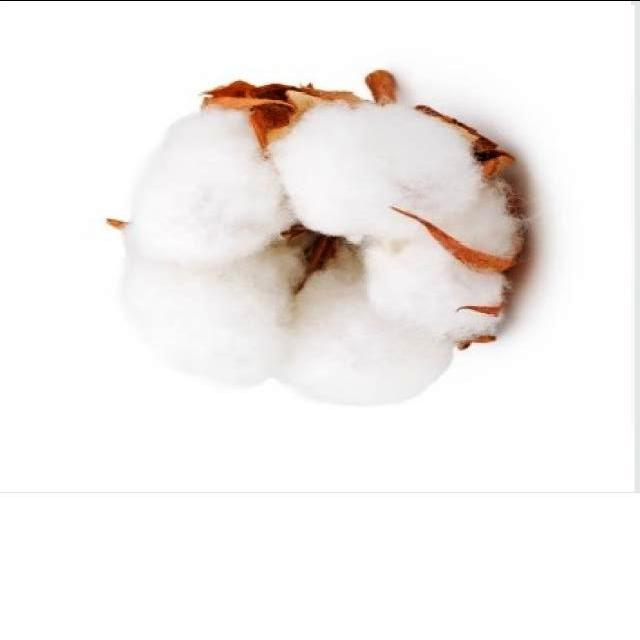Matured Cotton Boll: (102, 61, 534, 411)
